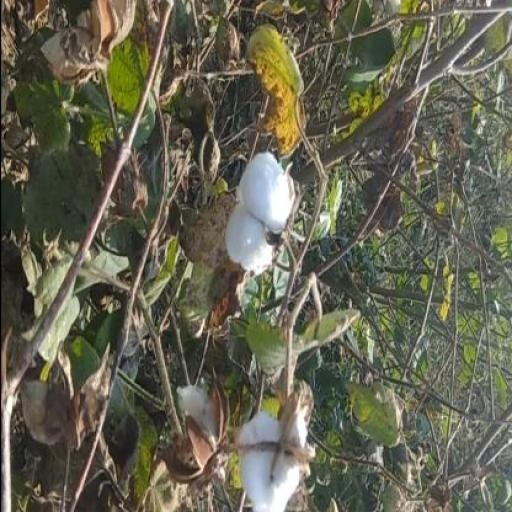cotton_ready: (230, 375, 309, 511), (219, 135, 287, 277)
